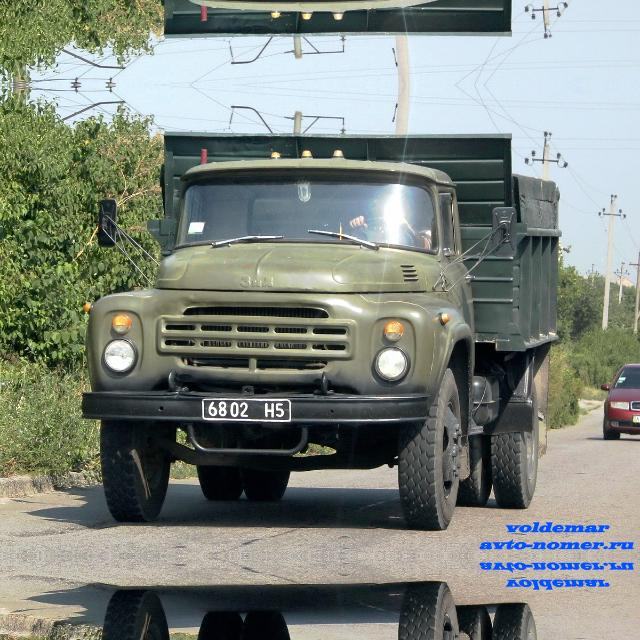military: (198, 396, 296, 424)
